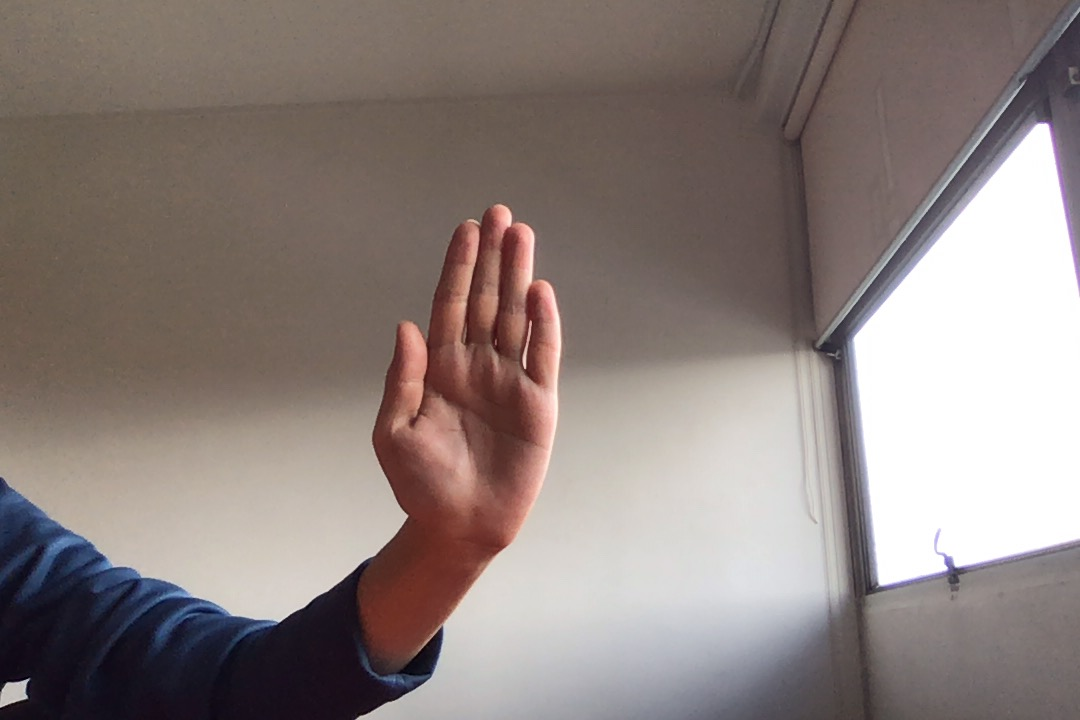palmhand: (365, 196, 569, 553)
